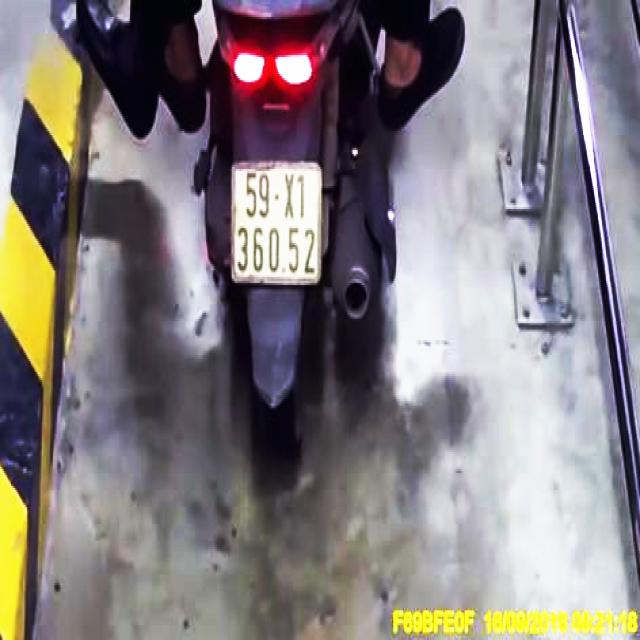license_plate: (234, 165, 321, 281)
